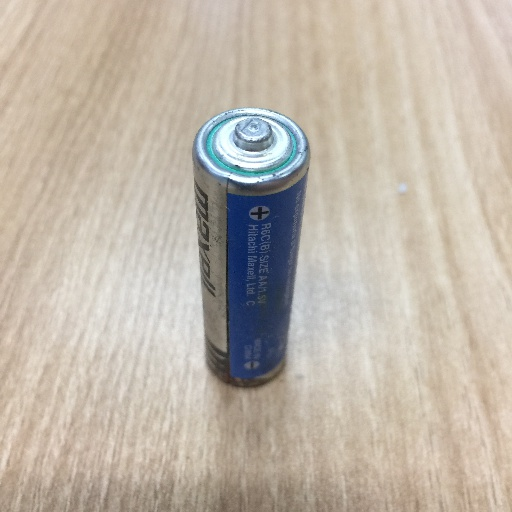Battery_0: (170, 91, 319, 414)
